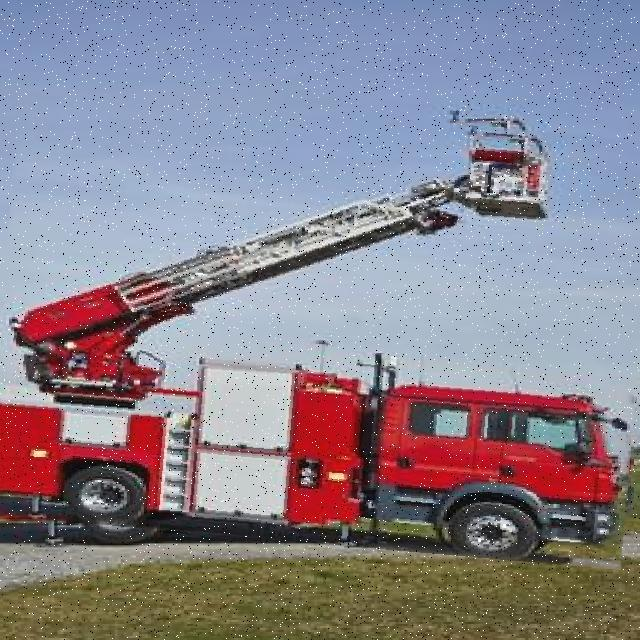pompier: (0, 99, 640, 556)
